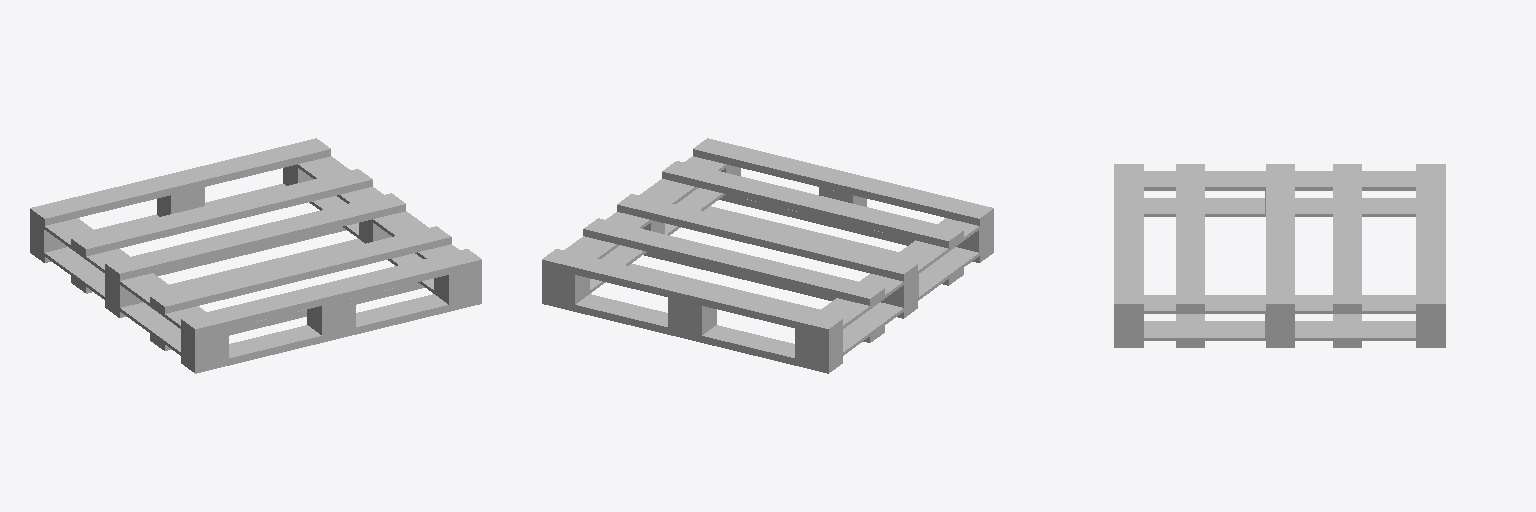
File: palletMain.obj
3 views of the same model, side by side, from view 1: azimuth 30°, elevation 25°; view 2: azimuth 150°, elevation 25°; view 3: azimuth 270°, elevation 25° (orthographic).
Visible parts, largest first — view 1: palletMain:Mesh; view 2: palletMain:Mesh; view 3: palletMain:Mesh.
Part boxes in pixels (x1,y1,x2,y2): palletMain:Mesh: (30, 138, 481, 373); palletMain:Mesh: (542, 138, 993, 373); palletMain:Mesh: (1114, 164, 1445, 347).
Bounding box in the file's own units: 0.4469 × 0.0661 × 0.4471.